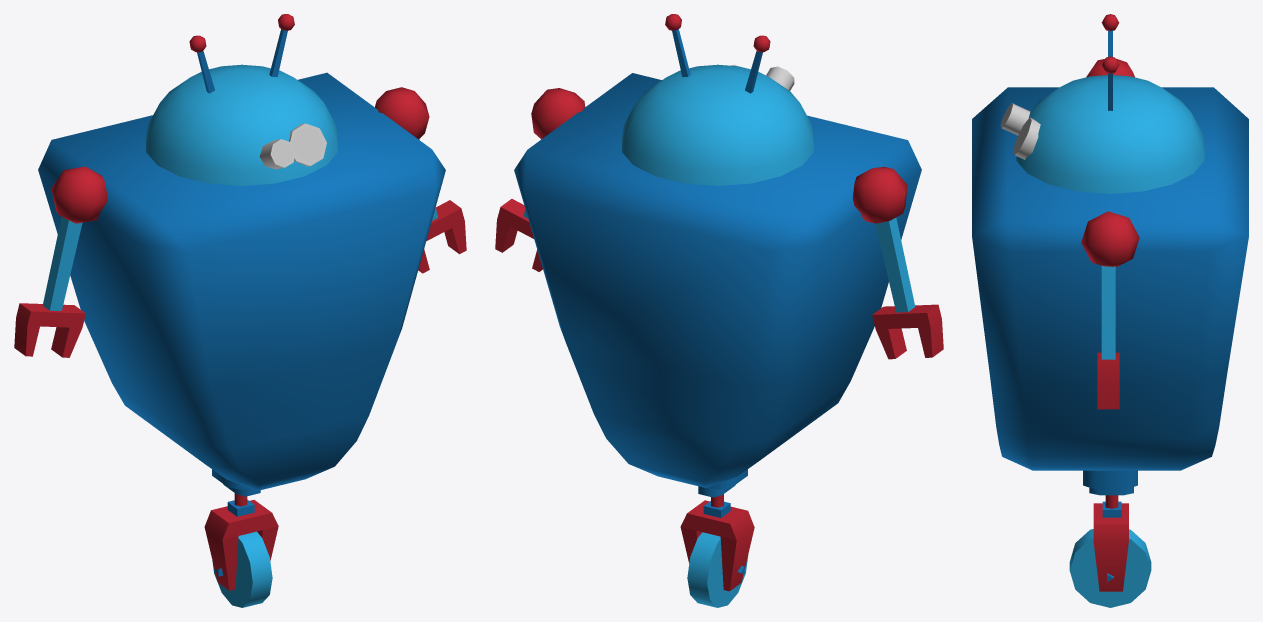
Rendered from robot_03_B_mesh.FBX.
3 renders of one model, left to right at view 1: azimuth 30°, elevation 25°; view 2: azimuth 150°, elevation 25°; view 3: azimuth 270°, elevation 25°, orthographic.
Parts seen in each view (by area): view 1: robot_03_B_body_mesh, robot_03_B_head_mesh, robot_03_B_right_arm_mesh, robot_03_B_left_arm_mesh, robot_03_B_whell_01_mesh; view 2: robot_03_B_body_mesh, robot_03_B_head_mesh, robot_03_B_right_arm_mesh, robot_03_B_left_arm_mesh, robot_03_B_whell_01_mesh; view 3: robot_03_B_body_mesh, robot_03_B_head_mesh, robot_03_B_left_arm_mesh, robot_03_B_whell_01_mesh, robot_03_B_right_arm_mesh.
Boxes of the visible parts, x1,y1,x2,y2 form: robot_03_B_body_mesh: [38, 72, 445, 590]; robot_03_B_head_mesh: [146, 14, 337, 185]; robot_03_B_right_arm_mesh: [14, 166, 107, 357]; robot_03_B_left_arm_mesh: [375, 87, 466, 273]; robot_03_B_whell_01_mesh: [212, 531, 272, 607]; robot_03_B_body_mesh: [514, 73, 921, 591]; robot_03_B_head_mesh: [622, 14, 813, 185]; robot_03_B_right_arm_mesh: [852, 166, 943, 359]; robot_03_B_left_arm_mesh: [495, 88, 585, 271]; robot_03_B_whell_01_mesh: [687, 532, 748, 607]; robot_03_B_body_mesh: [972, 87, 1248, 591]; robot_03_B_head_mesh: [1000, 14, 1204, 193]; robot_03_B_left_arm_mesh: [1081, 211, 1139, 409]; robot_03_B_whell_01_mesh: [1069, 529, 1151, 607]; robot_03_B_right_arm_mesh: [1086, 58, 1134, 77].
Bounding box in the file's own units: 189 × 238 × 105.
